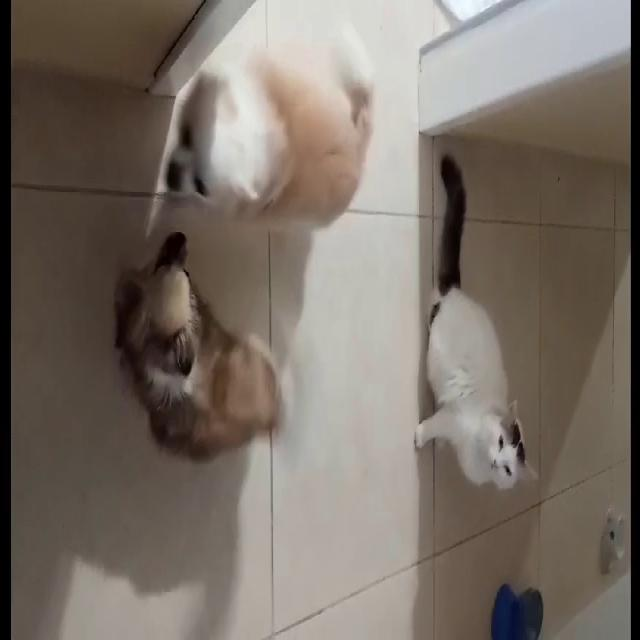Pedrita: (100, 251, 332, 502)
Simba: (393, 258, 575, 528)
Theo: (115, 17, 407, 225)
